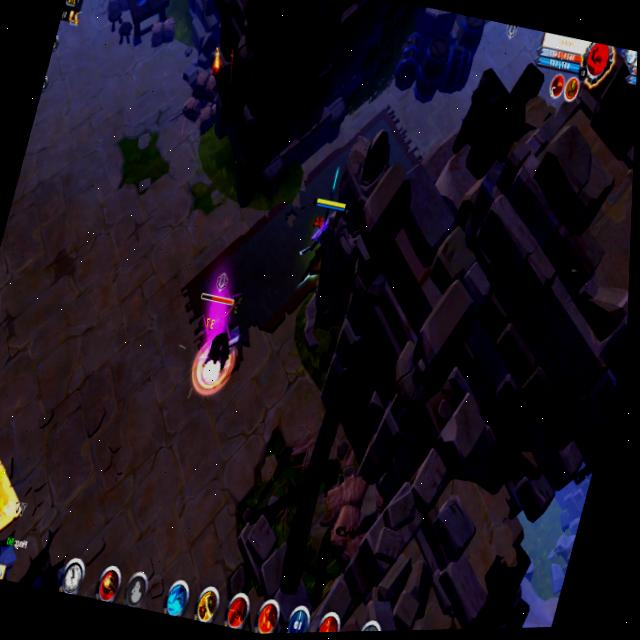ore: (173, 260, 257, 398)
red: (292, 188, 352, 281)
